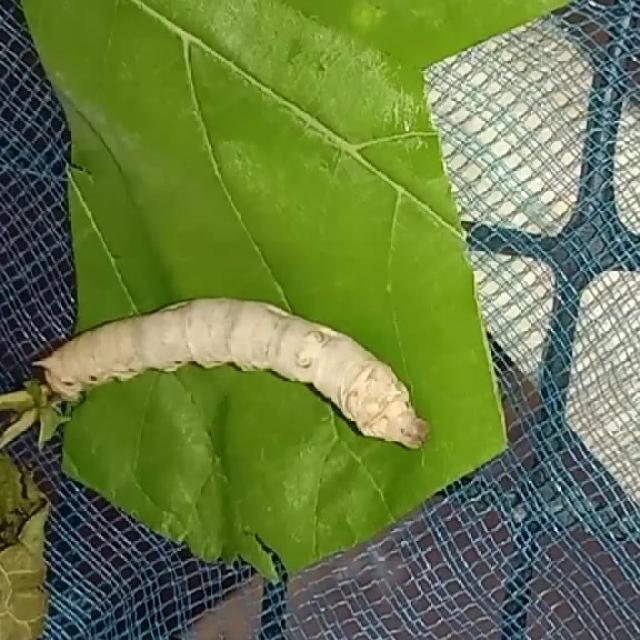Grasserie: (22, 271, 446, 486)
